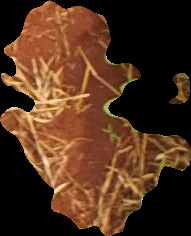soil: (2, 1, 189, 234)
